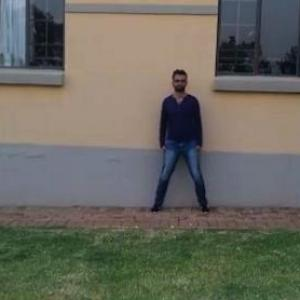follow: (160, 67, 204, 216)
